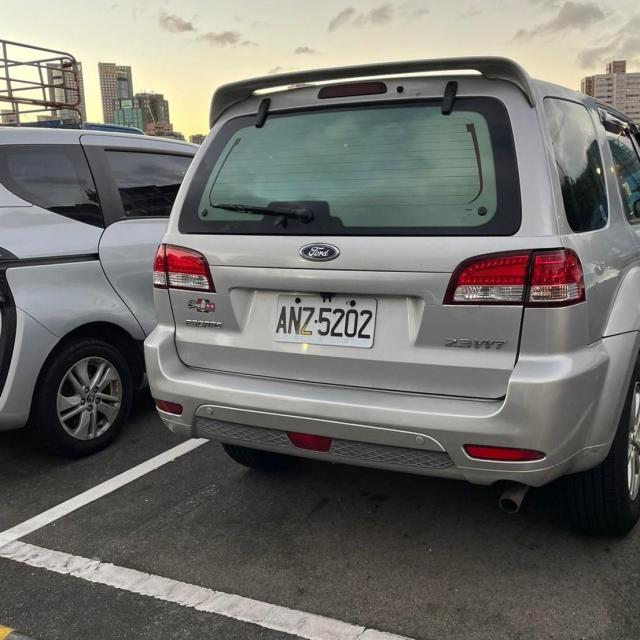W: (266, 286, 383, 352)
